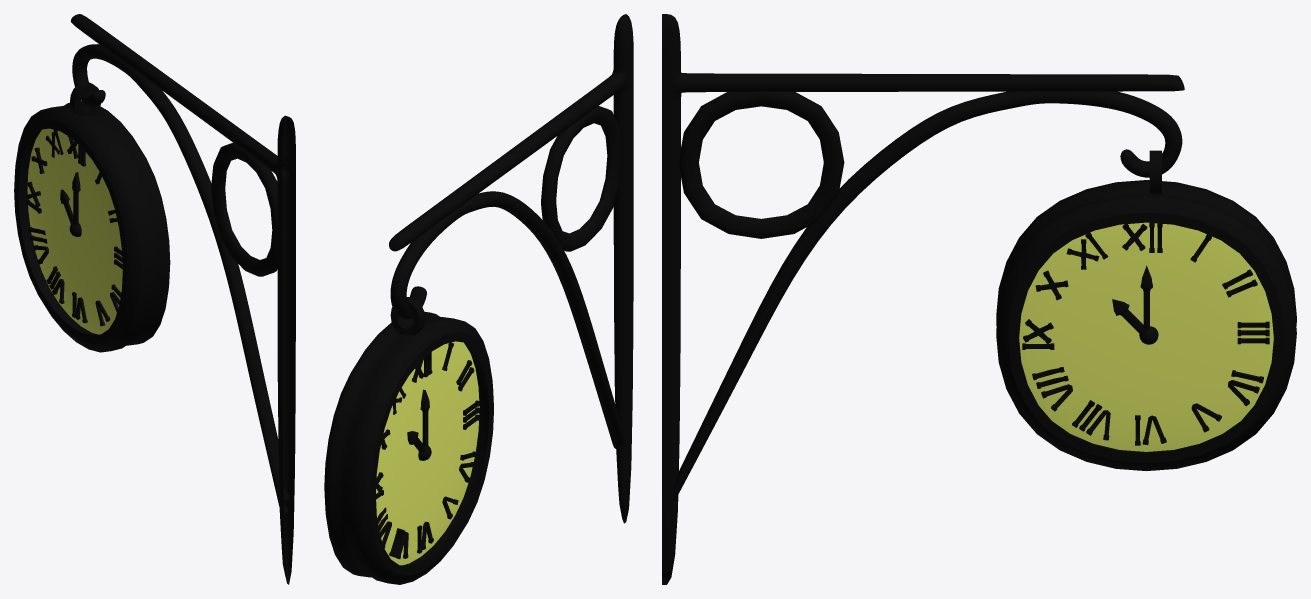
Rendered from Reloj_animacion.fbx.
3 renders of one model, left to right at view 1: azimuth 30°, elevation 25°; view 2: azimuth 150°, elevation 25°; view 3: azimuth 270°, elevation 25°, orthographic. The views are drawn at different scales.
Visible parts, largest first — view 1: Decoracon_techo, Reloj, Plano_reloj; view 2: Decoracon_techo, Reloj, Plano_reloj, Aguja_reloj_grande; view 3: Plano_reloj, Decoracon_techo, Reloj.
Part boxes in pixels (x1=…): Decoracon_techo: x1=70, y1=14, x2=295, y2=584; Reloj: x1=14, y1=82, x2=170, y2=352; Plano_reloj: x1=27, y1=128, x2=122, y2=334; Decoracon_techo: x1=389, y1=14, x2=633, y2=523; Reloj: x1=324, y1=297, x2=493, y2=584; Plano_reloj: x1=376, y1=341, x2=479, y2=565; Aguja_reloj_grande: x1=420, y1=389, x2=429, y2=446; Plano_reloj: x1=1019, y1=222, x2=1273, y2=451; Decoracon_techo: x1=662, y1=14, x2=1184, y2=584; Reloj: x1=996, y1=150, x2=1296, y2=470.
Size of the model in its own units: 15.51 by 156 by 158.
